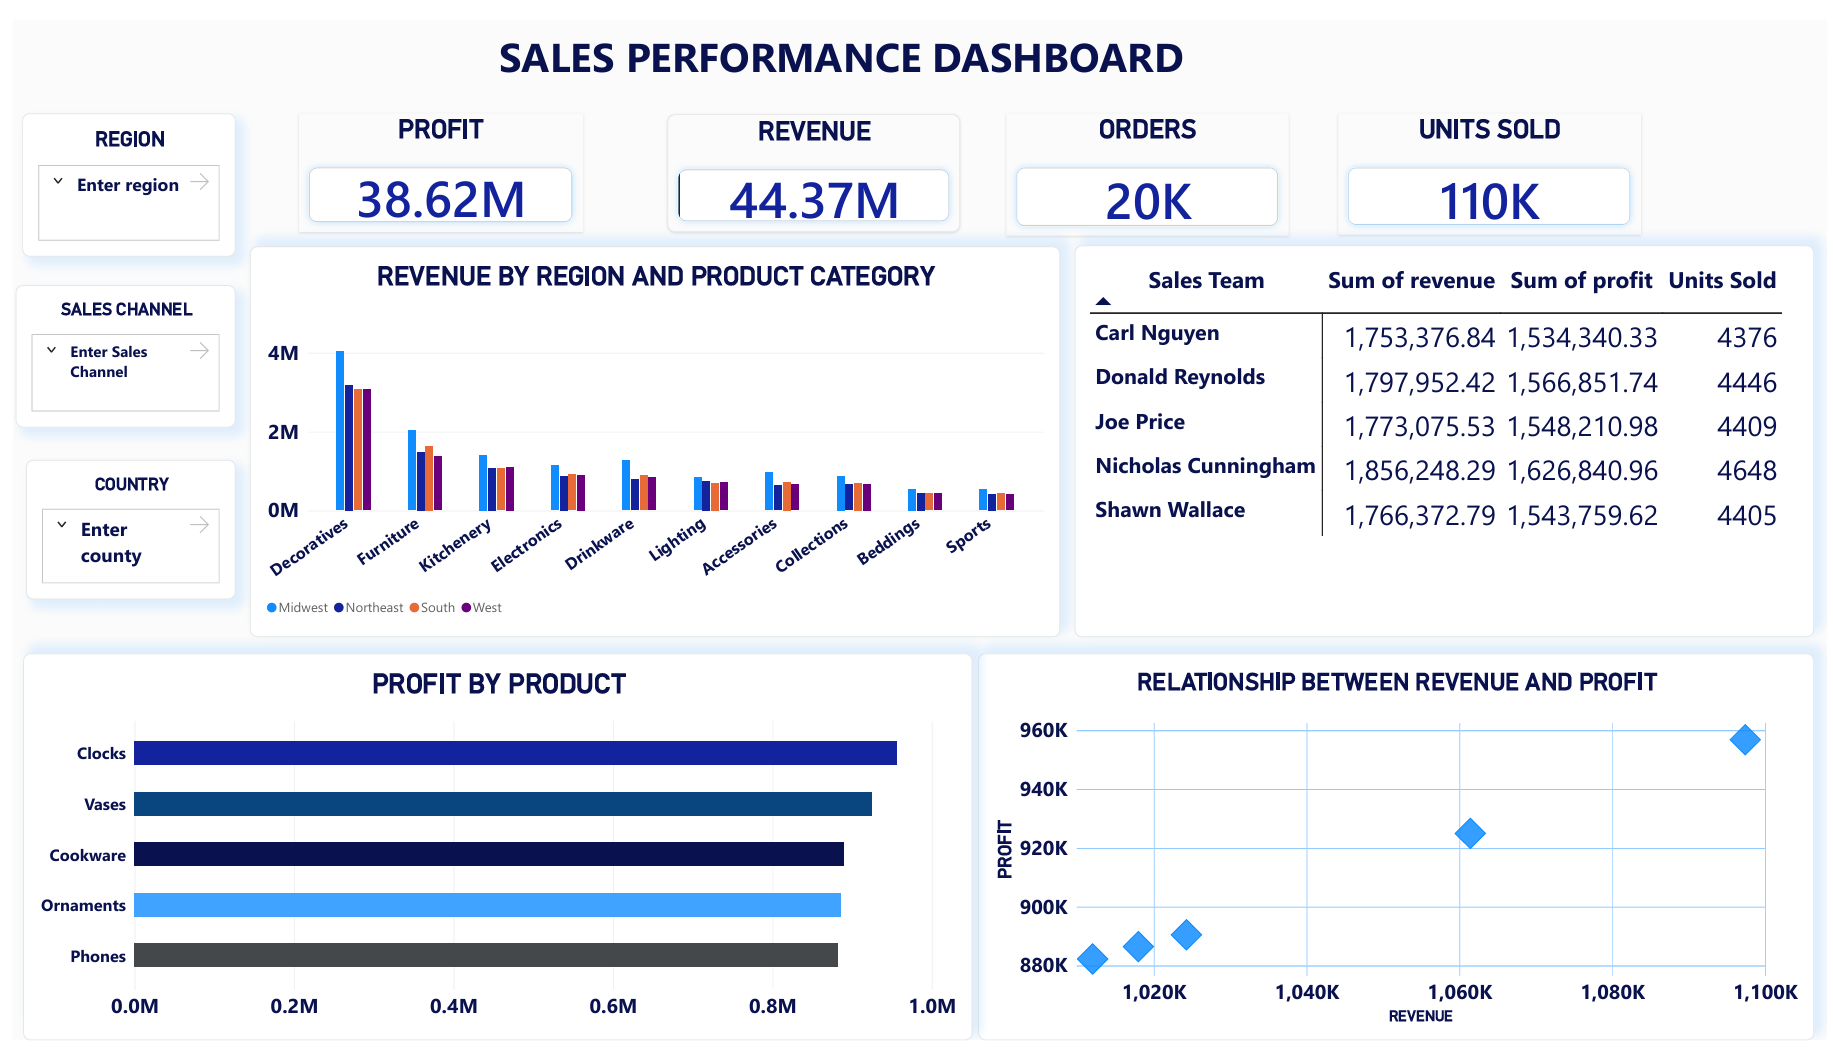

The dashboard page shown, as its layout file describes it:
{"tool":"powerbi","page":{"name":"Page 1","canvas":[1920,1080],"ordinal":0},"visuals":[{"type":"cardVisual","title":"REVENUE","fields":{"Data":["Sum(public retail_sales.revenue)"]},"box":[692.2,98.6,310.1,125.3],"z":0},{"type":"cardVisual","title":"ORDERS","fields":{"Data":["CountNonNull(public retail_sales.Order Number)"]},"box":[1051.4,97.7,298.6,130.3],"z":1000},{"type":"cardVisual","title":"UNITS SOLD","fields":{"Data":["public retail_sales.Units Sold"]},"box":[1402.5,97.7,320.4,129.4],"z":2000},{"type":"cardVisual","title":"PROFIT","fields":{"Data":["Sum(public retail_sales.profit)"]},"box":[302.2,97.7,300.4,126.7],"z":3000},{"type":"clusteredColumnChart","title":"REVENUE BY REGION AND PRODUCT CATEGORY","fields":{"Category":["public retail_sales.Product Category"],"Series":["public retail_sales.region"],"Y":["Sum(public retail_sales.revenue)"]},"box":[249.7,238.9,857.8,414.4],"z":4000},{"type":"pivotTable","fields":{"Rows":["public retail_sales.Sales Team"],"Values":["Sum(public retail_sales.revenue)","Sum(public retail_sales.profit)","public retail_sales.Units Sold"]},"box":[1123.5,238.3,782.5,414.9],"z":6000},{"type":"scatterChart","title":"RELATIONSHIP BETWEEN REVENUE AND PROFIT","fields":{"Category":["public retail_sales.Product Name"],"X":["Sum(public retail_sales.revenue)"],"Y":["Sum(public retail_sales.profit)"]},"box":[1020.8,669.6,885.2,410.8],"z":7000},{"type":"clusteredBarChart","title":"PROFIT BY PRODUCT","fields":{"Category":["public retail_sales.Product Name"],"Y":["Sum(public retail_sales.profit)"]},"box":[10.3,669.6,1004.4,410.8],"z":7001},{"type":"textbox","box":[495,8.2,762,82.2],"z":7002},{"type":"textSlicer","title":"REGION","fields":{"Values":["public retail_sales.region"]},"box":[9,97.7,226.2,152],"z":7003},{"type":"textSlicer","title":"SALES CHANNEL","fields":{"Values":["public retail_sales.Sales Channel"]},"box":[1.8,280.5,233.4,150.2],"z":7004},{"type":"textSlicer","title":"COUNTRY","fields":{"Values":["public retail_sales.county"]},"box":[12.7,465.1,222.6,148.4],"z":7005}]}

Visuals, with their boxes in screenshot pixels (x1, y1, x2, y2), scaled from the page's 1920x1080 canvas onto the 1833x1062 screenshot:
"REVENUE" cardVisual: bbox(661, 97, 957, 220)
"ORDERS" cardVisual: bbox(1004, 96, 1289, 224)
"UNITS SOLD" cardVisual: bbox(1339, 96, 1645, 223)
"PROFIT" cardVisual: bbox(289, 96, 575, 221)
"REVENUE BY REGION AND PRODUCT CATEGORY" clusteredColumnChart: bbox(238, 235, 1057, 642)
pivotTable - public retail_sales.Sales Team x Sum(public retail_sales.revenue): bbox(1073, 234, 1820, 642)
"RELATIONSHIP BETWEEN REVENUE AND PROFIT" scatterChart: bbox(975, 658, 1820, 1061)
"PROFIT BY PRODUCT" clusteredBarChart: bbox(10, 658, 969, 1061)
textbox: bbox(473, 8, 1200, 89)
"REGION" textSlicer: bbox(9, 96, 225, 246)
"SALES CHANNEL" textSlicer: bbox(2, 276, 225, 424)
"COUNTRY" textSlicer: bbox(12, 457, 225, 603)
